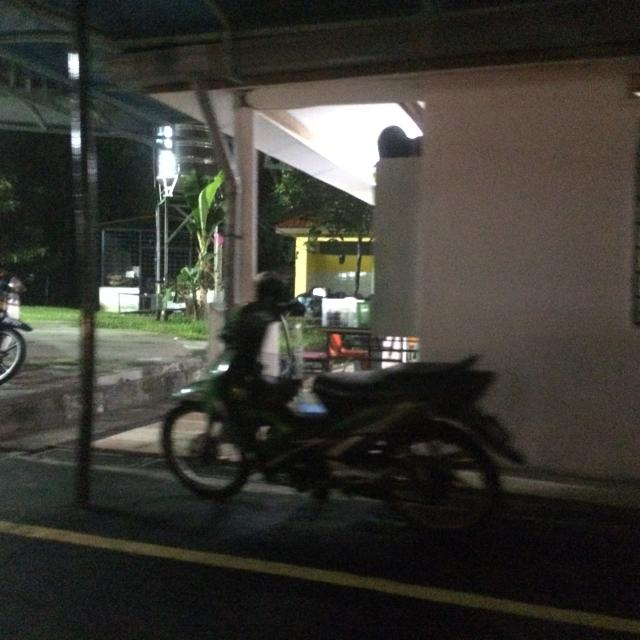Motorbike: (139, 248, 501, 546)
